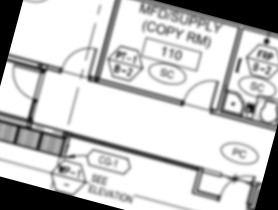door: (216, 166, 259, 210), (181, 71, 221, 113), (59, 39, 99, 79), (4, 62, 45, 101)
